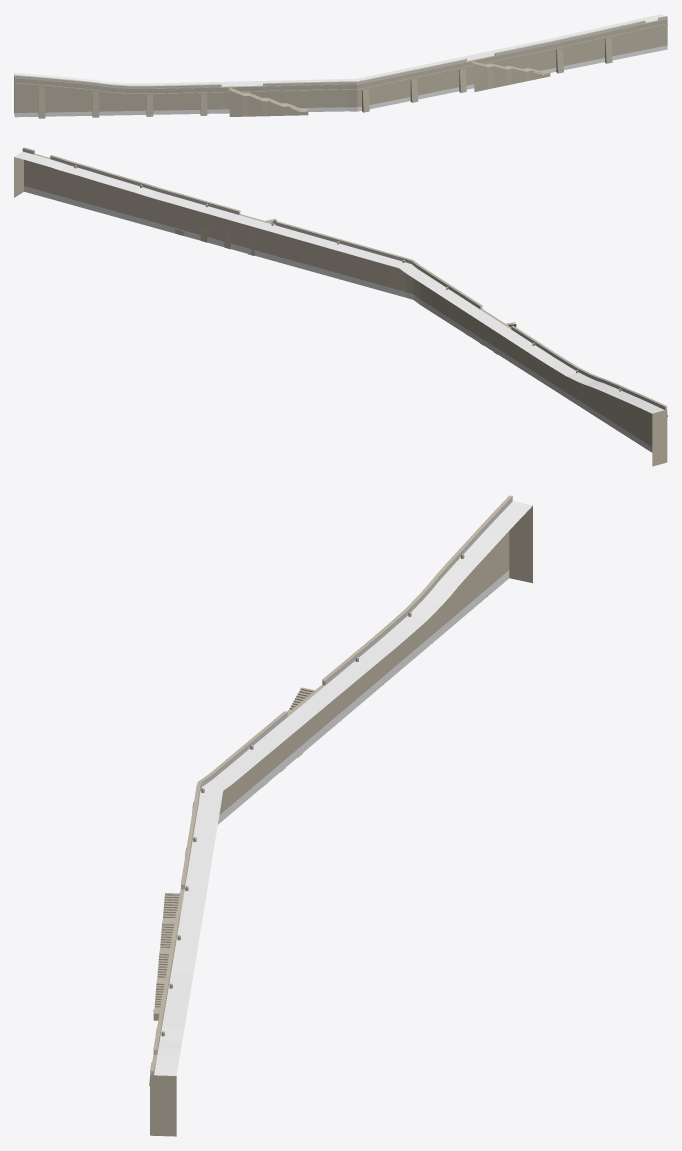
Rendered from SM_BM_BC_QuayWall.glb.
The picture shows the model from 3 angles, top to bottom: view 1: azimuth 30°, elevation 25°; view 2: azimuth 150°, elevation 25°; view 3: azimuth 270°, elevation 25°; orthographic projection. The views are drawn at different scales.
Visible parts, largest first — view 1: SM_BM_BC_QuayWall; view 2: SM_BM_BC_QuayWall; view 3: SM_BM_BC_QuayWall.
Boxes of the visible parts, bbox=[...] form: SM_BM_BC_QuayWall: bbox=[14, 14, 667, 118]; SM_BM_BC_QuayWall: bbox=[14, 147, 667, 466]; SM_BM_BC_QuayWall: bbox=[149, 495, 532, 1136].
Bounding box in the file's own units: 157 × 12.02 × 46.18.
